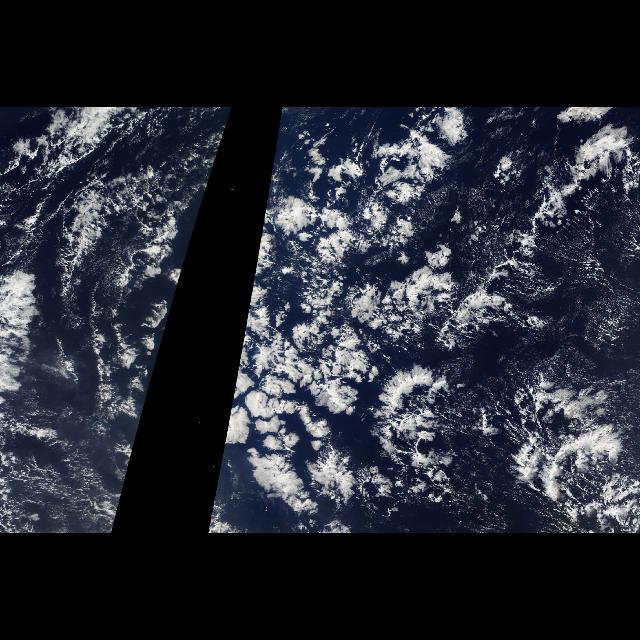Fish: (505, 353, 633, 532), (352, 363, 500, 512)
Flower: (210, 111, 500, 523), (111, 110, 231, 516)
Gravel: (1, 110, 228, 296)
Sugar: (546, 200, 638, 386)
